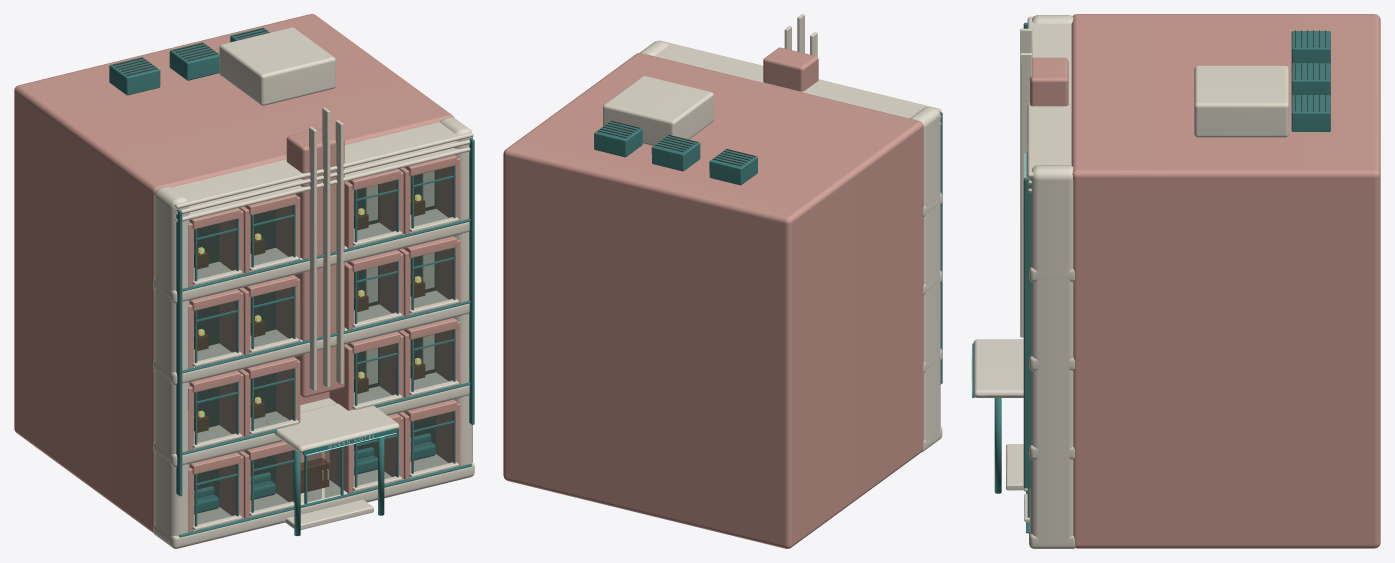
Rendered from ocean-hotel-low.glb.
The picture shows the model from 3 angles, left to right: view 1: azimuth 30°, elevation 25°; view 2: azimuth 150°, elevation 25°; view 3: azimuth 270°, elevation 25°; orthographic projection. The views are drawn at different scales.
Parts seen in each view (by area): view 1: OriginalOceanHotel.001; view 2: OriginalOceanHotel.001; view 3: OriginalOceanHotel.001.
Part boxes in pixels (x1=…): OriginalOceanHotel.001: x1=14, y1=14, x2=474, y2=548; OriginalOceanHotel.001: x1=503, y1=14, x2=942, y2=548; OriginalOceanHotel.001: x1=971, y1=14, x2=1380, y2=548.
Bounding box in the file's own units: 12 × 15.4 × 12.95.
